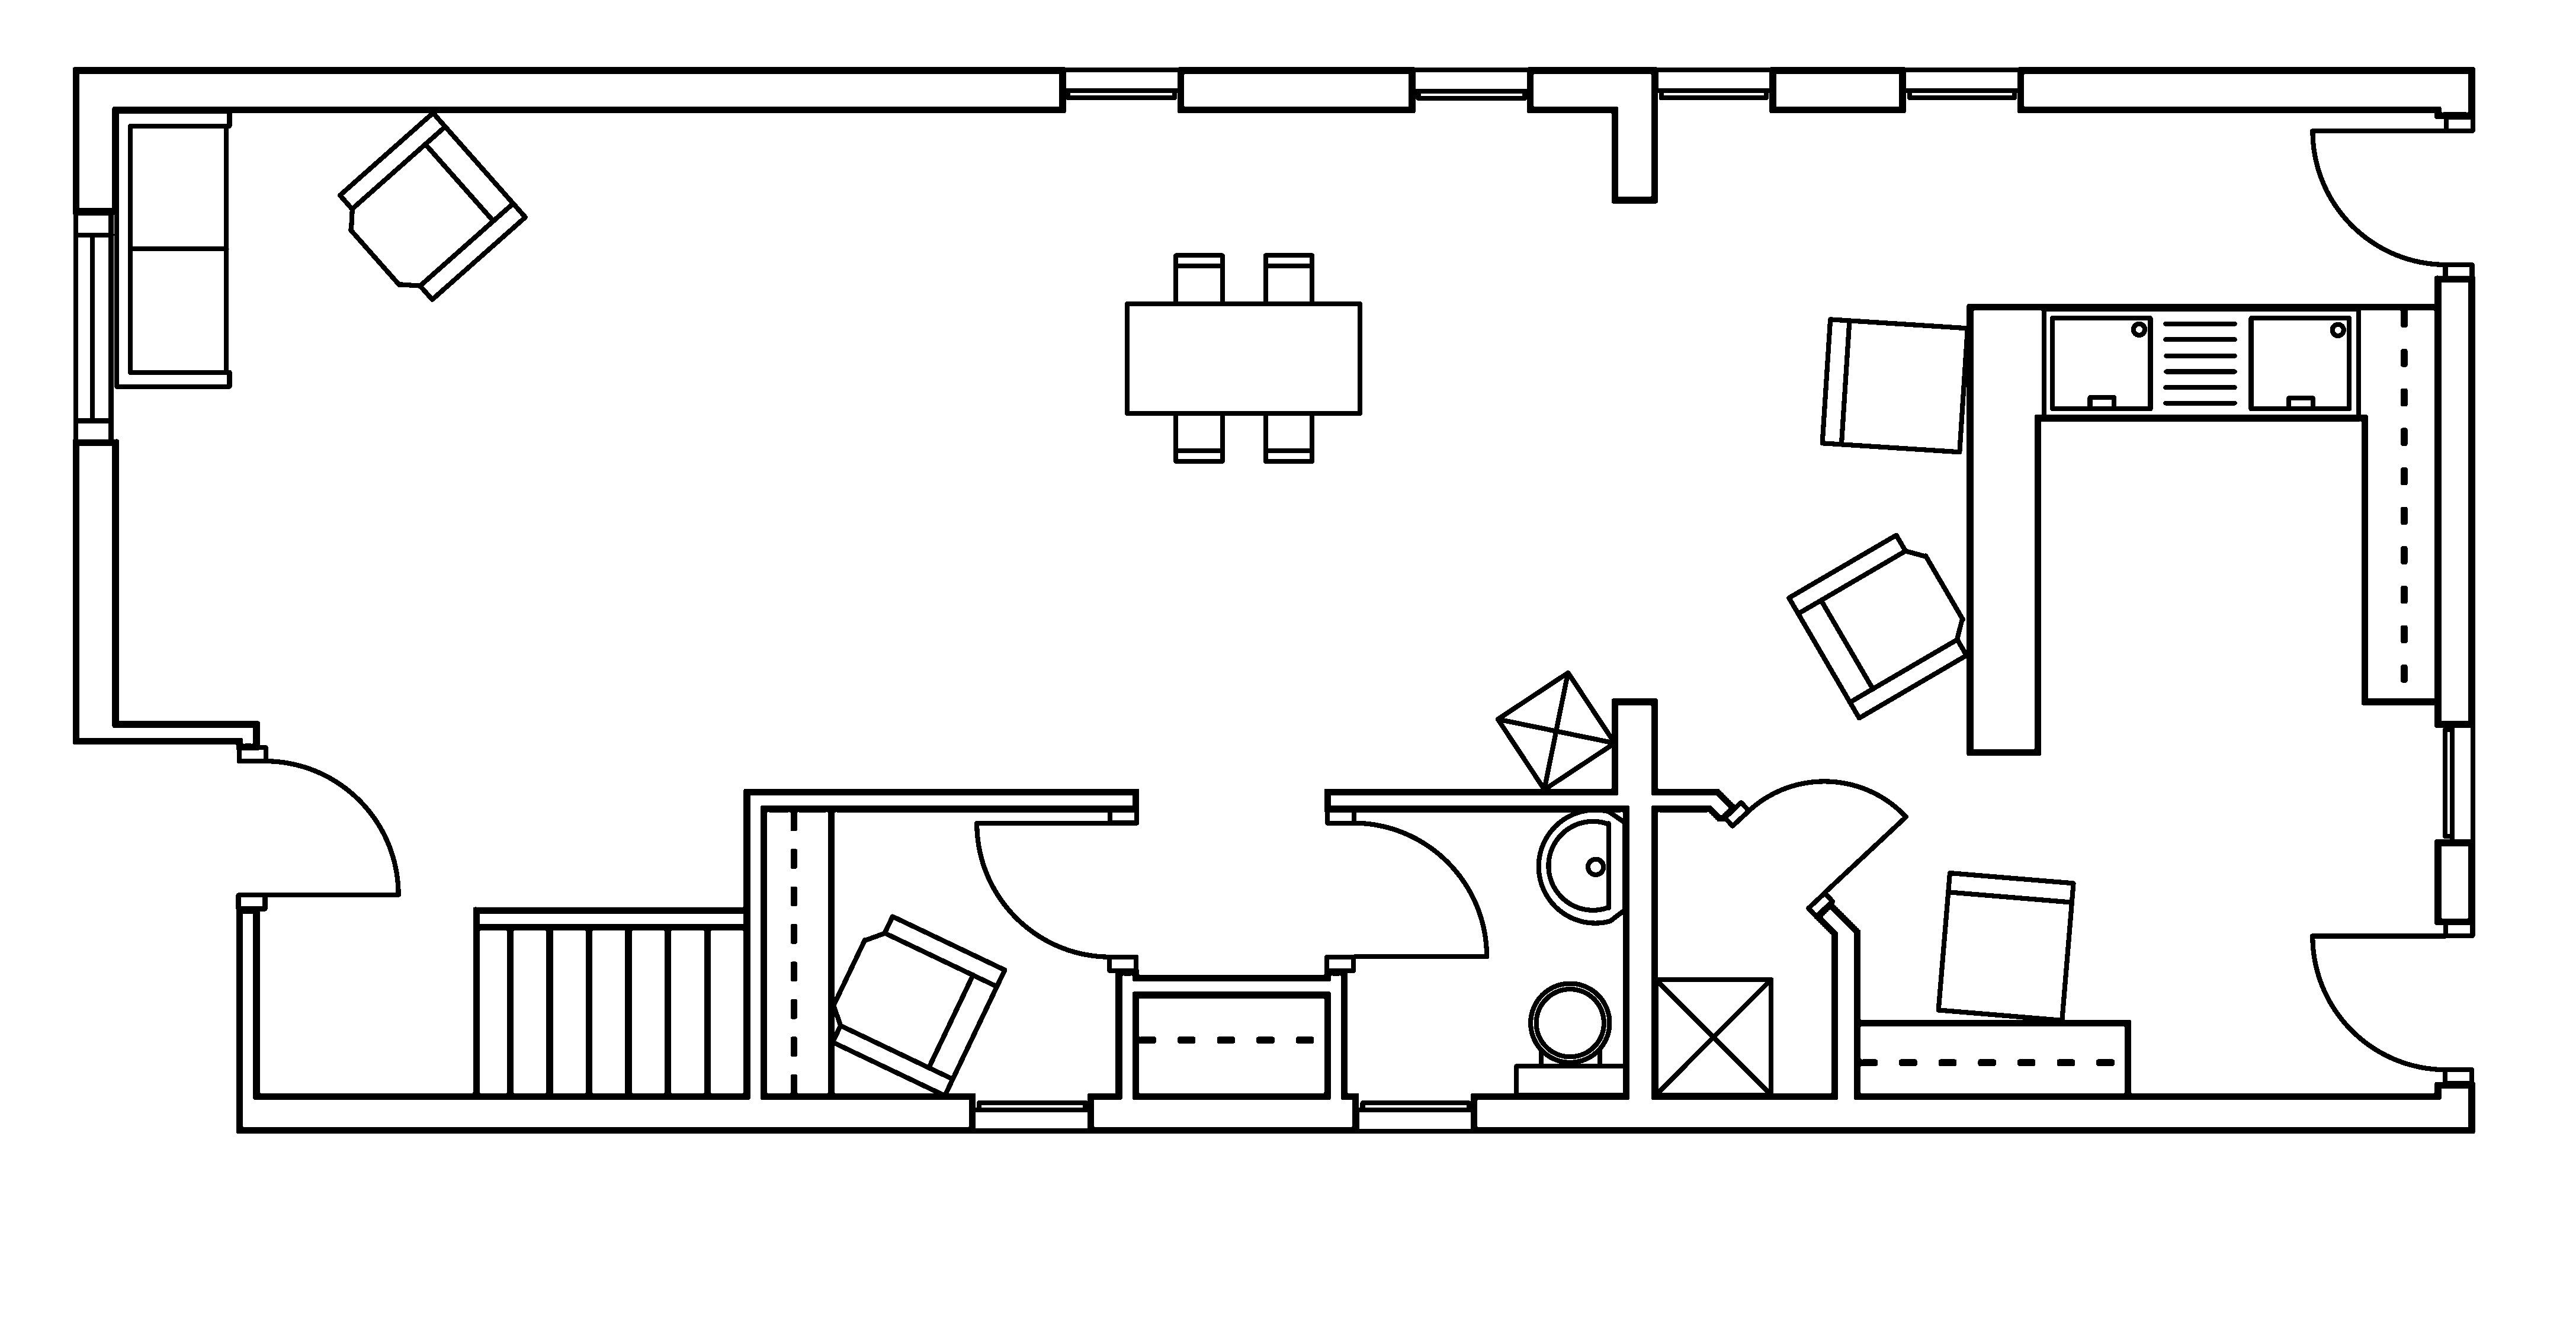armchair: (336, 109, 528, 303), (1786, 532, 1969, 720), (829, 912, 1007, 1099)
coffee_table: (1493, 670, 1618, 792), (1651, 976, 1774, 1097)
dining_table: (1123, 252, 1362, 464)
large_sink: (1513, 981, 1628, 1097)
large_sofa: (113, 108, 232, 389)
small_sink: (1535, 808, 1628, 925)
small_sofa: (1934, 870, 2077, 1023), (1818, 316, 1971, 454)
twin_sink: (2040, 305, 2361, 421)
